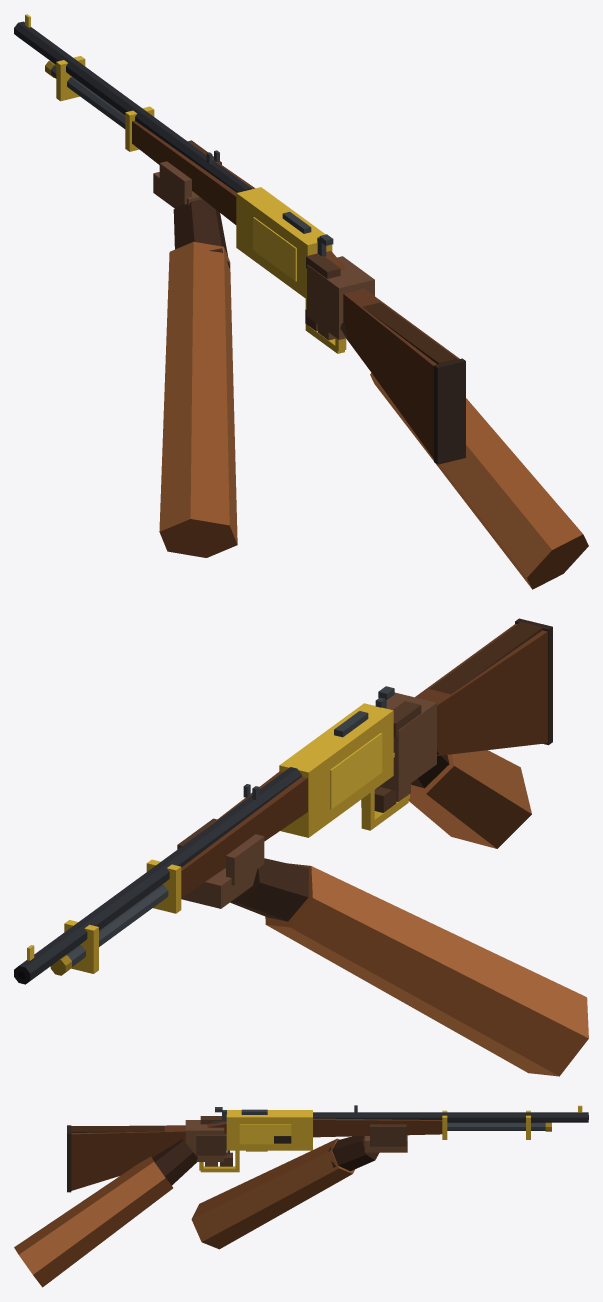
3 renders of one model, top to bottom at view 1: azimuth 30°, elevation 25°; view 2: azimuth 150°, elevation 25°; view 3: azimuth 270°, elevation 25°, orthographic. The views are drawn at different scales.
Parts seen in each view (by area): view 1: lever-action, handRight; view 2: lever-action, handRight, lever; view 3: lever-action, handRight, lever.
Part boxes in pixels (left/top/right/bottom): lever-action: left=14, top=14, right=465, bottom=557; handRight: left=305, top=253, right=588, bottom=589; lever-action: left=14, top=618, right=588, bottom=1076; handRight: left=361, top=692, right=531, bottom=848; lever: left=361, top=790, right=409, bottom=830; lever-action: left=67, top=1105, right=588, bottom=1249; handRight: left=14, top=1116, right=232, bottom=1287; lever: left=199, top=1150, right=267, bottom=1172.
Size of the model in its own units: 0.4495 by 0.457 by 1.33.
